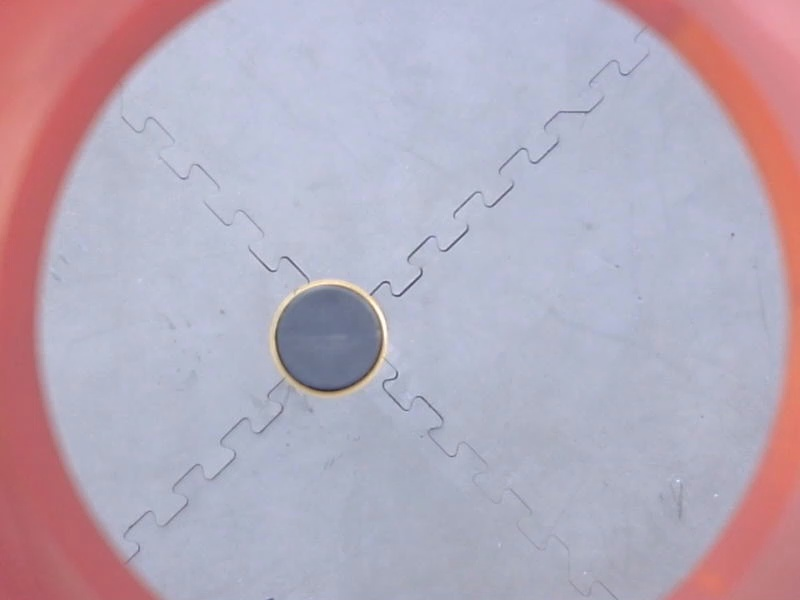tip: (263, 274, 397, 404)
